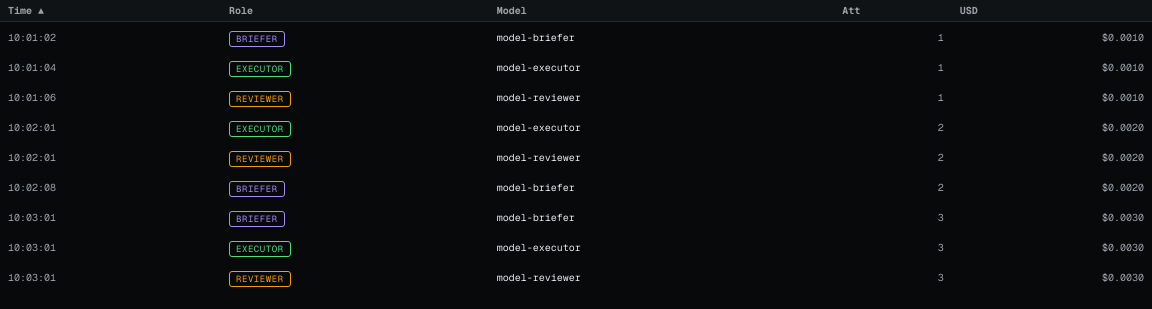
PromptsTab › shows error message on body fetch failure
Click the row with test id "spawn-row-" at (576, 37), box [0,22,1151,52]
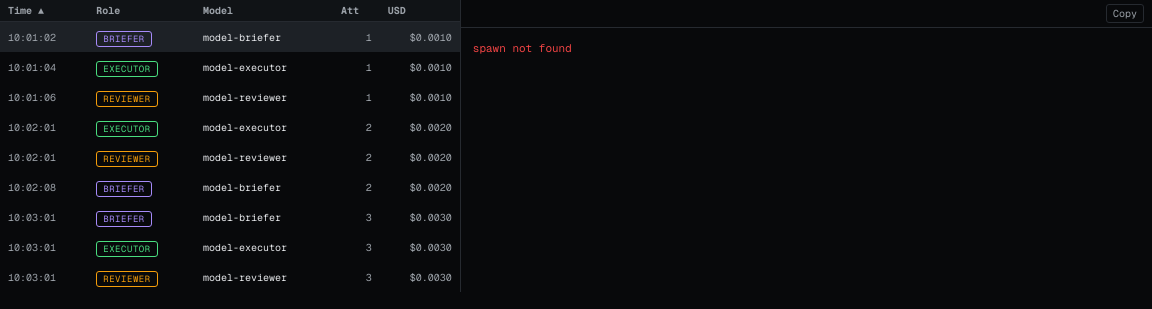
Expected: the text with test id "prompt-body-error" reads "spawn not found", [473,41,572,55]
